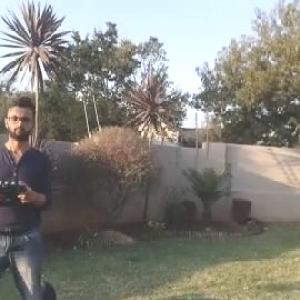follow: (0, 92, 62, 299)
